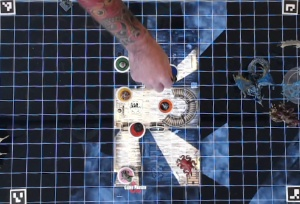blue: (163, 62, 179, 79)
green: (113, 53, 132, 72)
orange: (155, 96, 173, 114)
pink: (117, 165, 136, 184)
red: (128, 120, 145, 138)
yellow: (116, 85, 132, 103)
